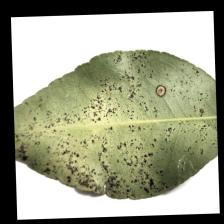canker: (26, 106, 155, 186)
